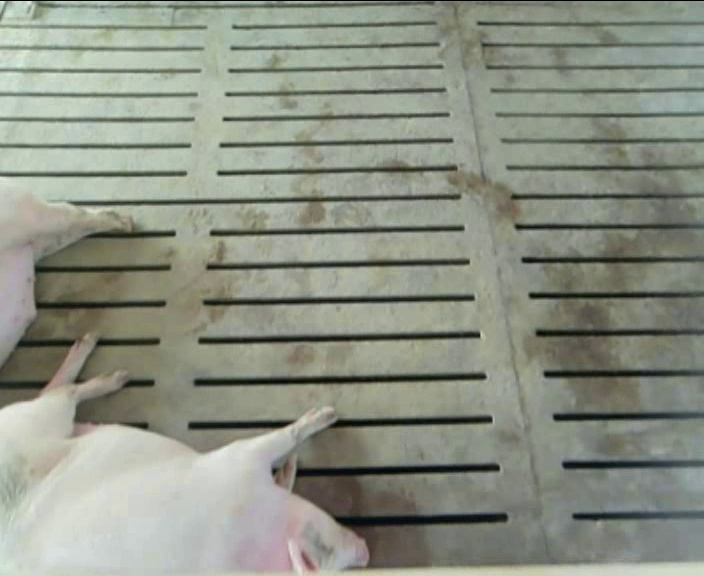pig: (0, 179, 132, 366)
